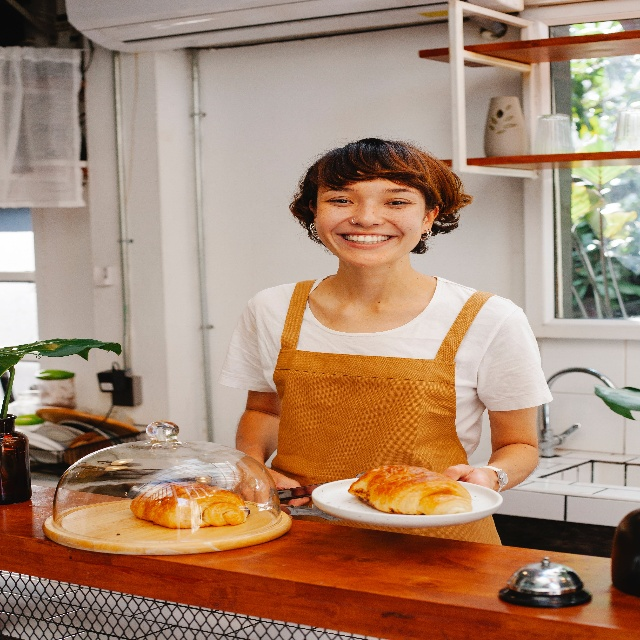Sin_guantes: (232, 464, 310, 507), (443, 464, 492, 490)
